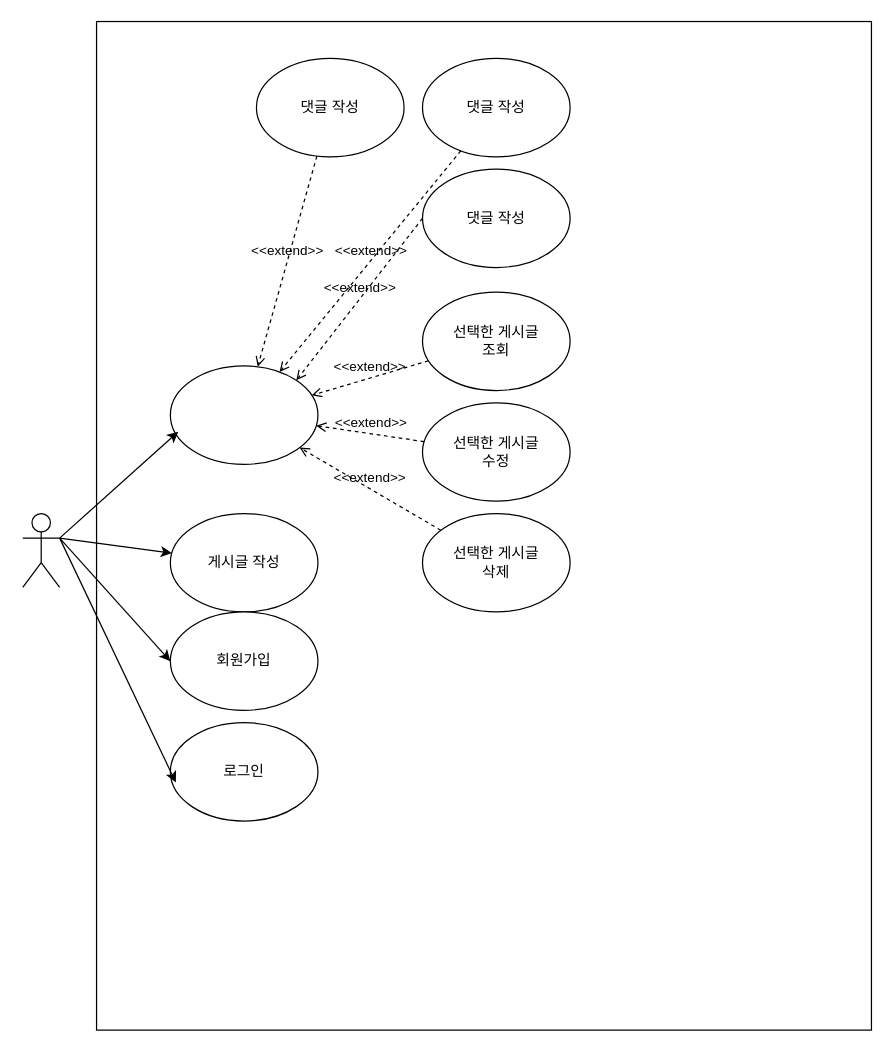
The diagram is 893 pixels wide and 1052 high, and some of its shapes have lost their labels. The shapes that lost their labels are listed below. From the top down, each one's centre as x and y in pixels, then its label:
(243,414): 전체 게시글 목록 조회
(41,549): 사용자
